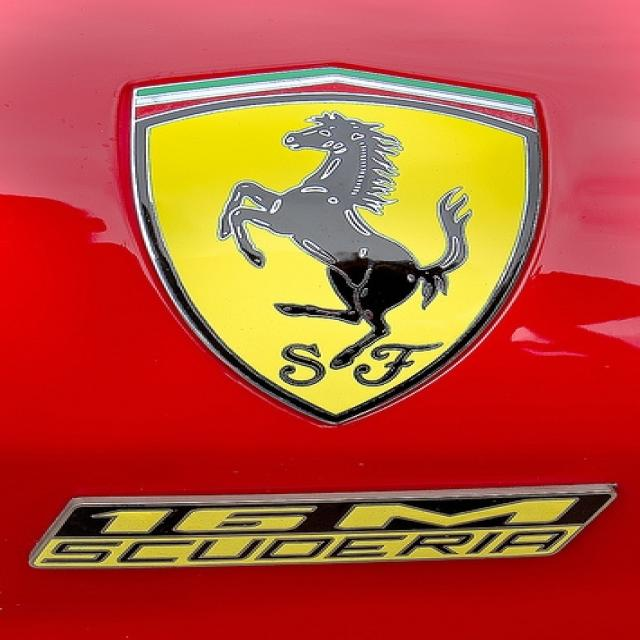ferrari: (127, 64, 549, 429)
